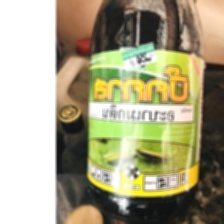insecticide: (81, 0, 208, 224)
